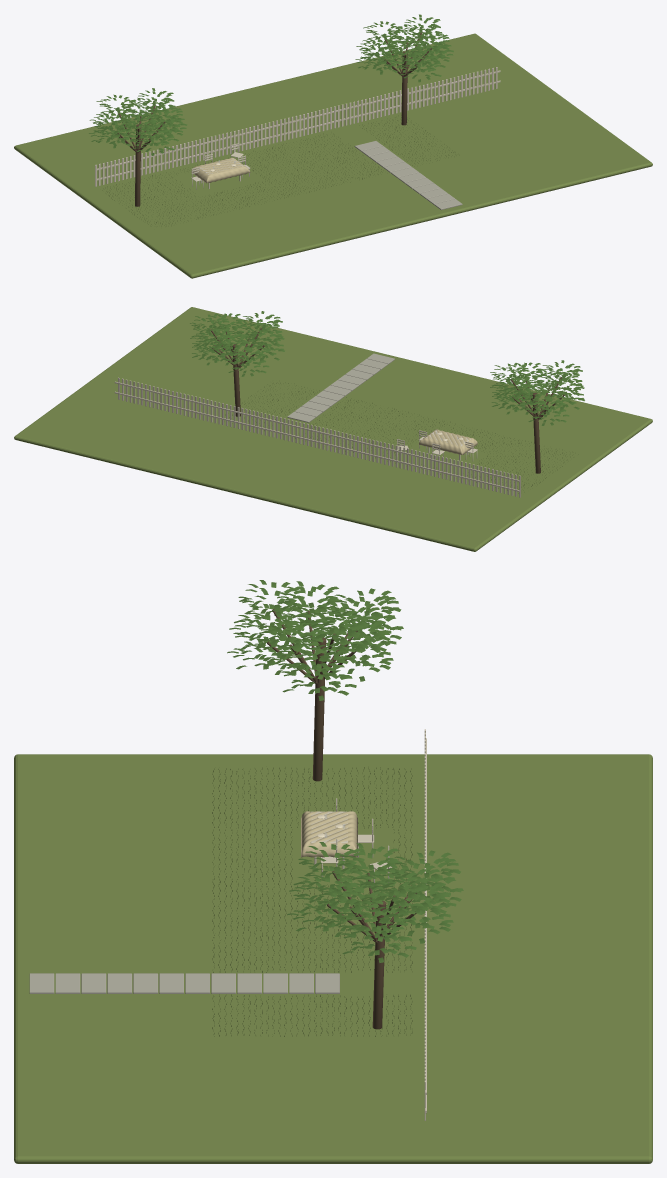
File: SM_Garden.glb
3 renders of one model, top to bottom at view 1: azimuth 30°, elevation 25°; view 2: azimuth 150°, elevation 25°; view 3: azimuth 270°, elevation 25°, orthographic. The views are drawn at different scales.
Parts seen in each view (by area): view 1: SM_Garden; view 2: SM_Garden; view 3: SM_Garden.
Part boxes in pixels (bbox=[...]): SM_Garden: bbox=[14, 14, 652, 278]; SM_Garden: bbox=[14, 307, 652, 551]; SM_Garden: bbox=[14, 580, 652, 1163].
Bounding box in the file's own units: 24.6 × 5.22 × 16.
Materials: 8 (1 with a texture image).
